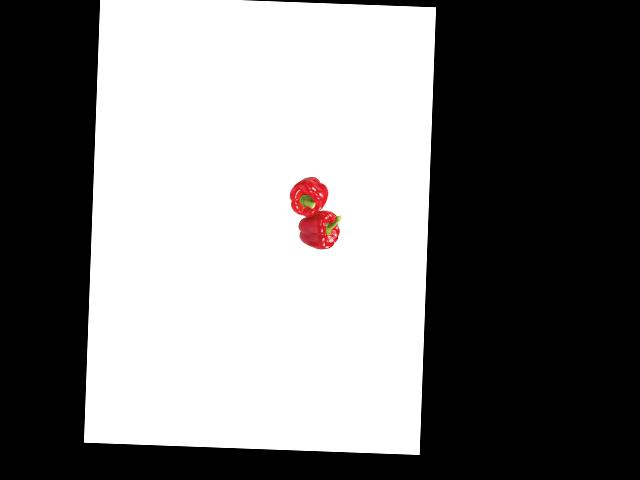bell_pepper: (294, 208, 343, 251)
